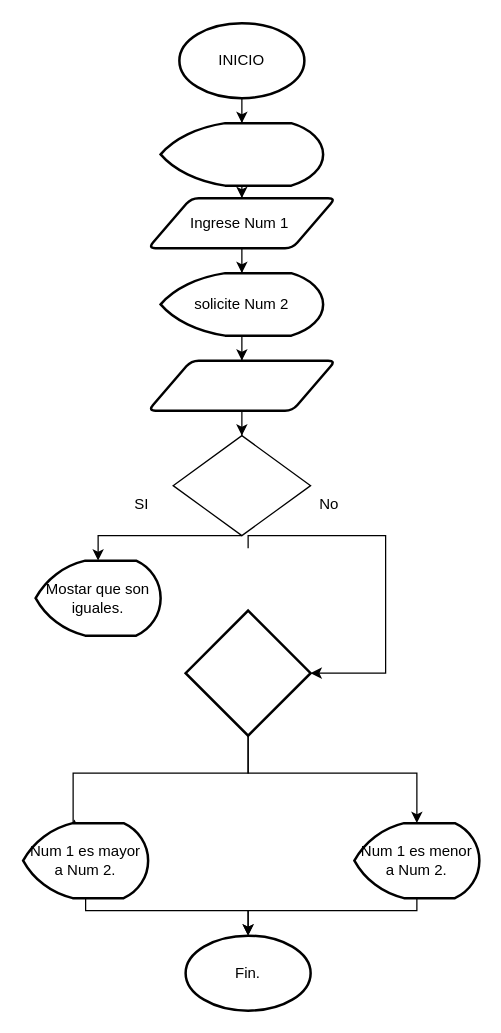
Image size: 501x1033. Some labels were removed from this diagram. Here are the shapes that lost their labels. From the top down, the centre of each, then its label:
At point (241, 153): "solicite Num 1".
At point (241, 385): "Ingrese Num 2".
At point (241, 485): "Num 1 = Num 2".
At point (247, 672): "Num 1 > Num 2".
